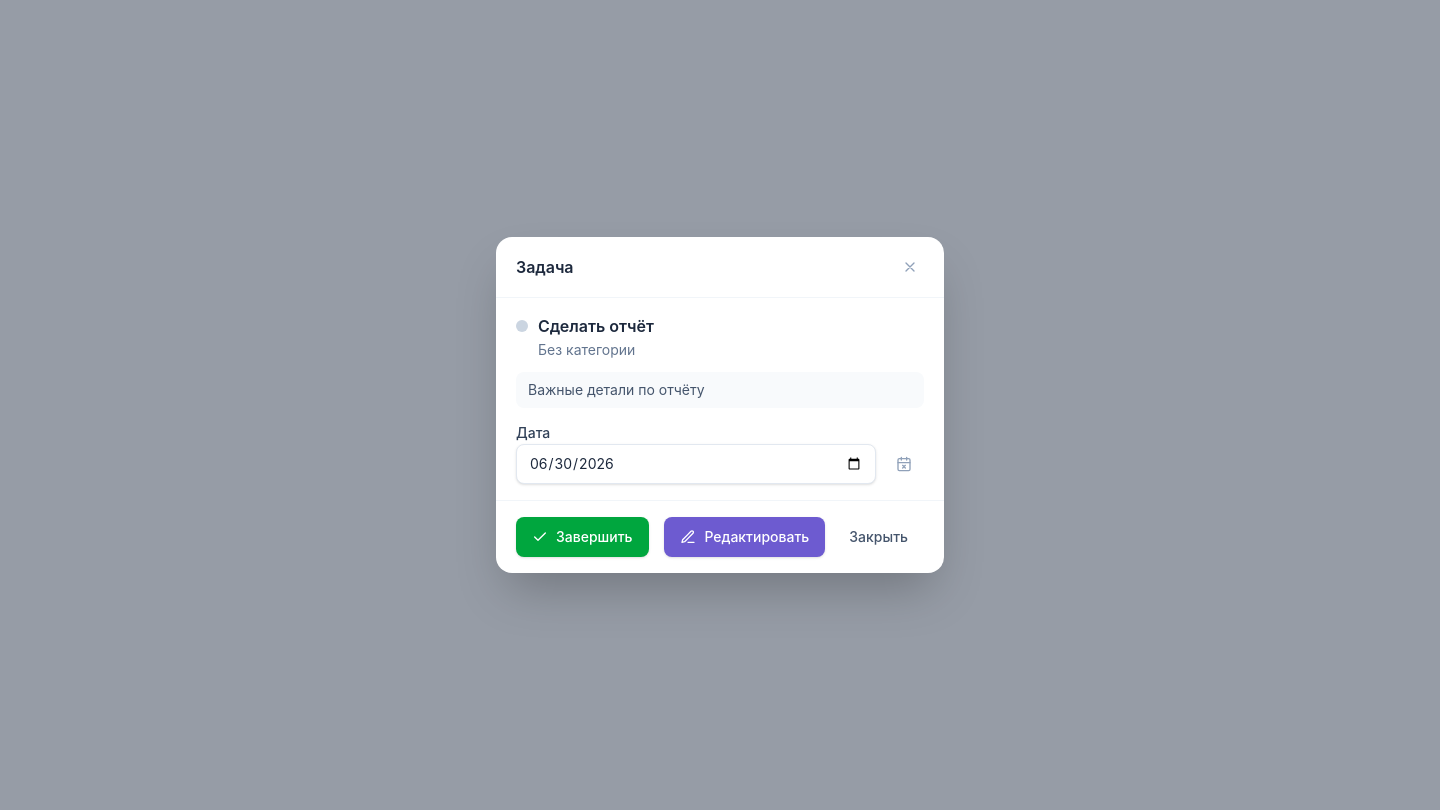
EntityDialog — дата задачи › в превью показывает дату и снимает её кнопкой
Expected: the date field named "Дата" holds "2026-06-30", [516, 444, 876, 484]
Click the button named "Убрать дату". click: click(904, 464)
box: [884, 444, 924, 484]
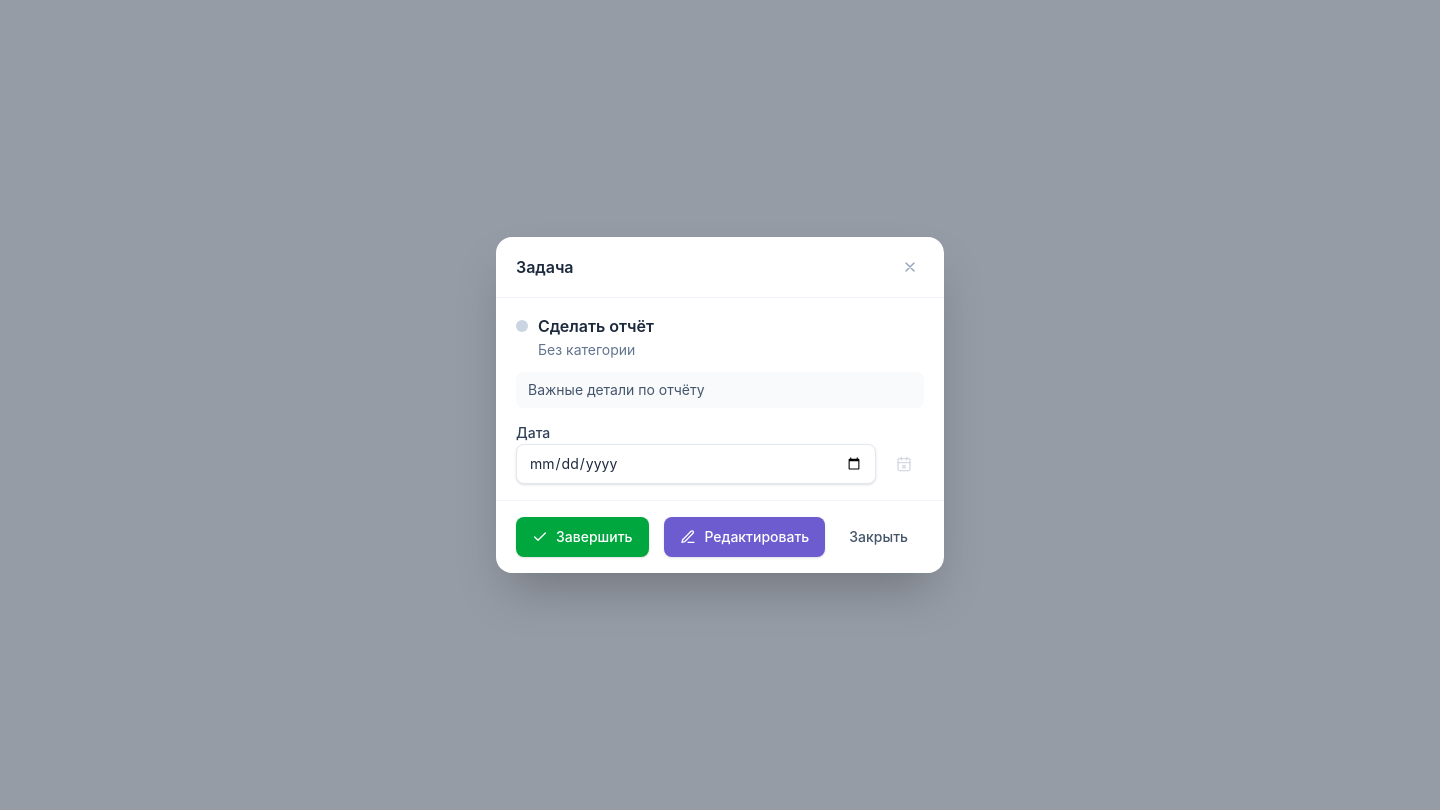
Expected: the date field named "Дата" is empty, [516, 444, 876, 484]
Expected: the button named "Убрать дату" is disabled, [884, 444, 924, 484]
